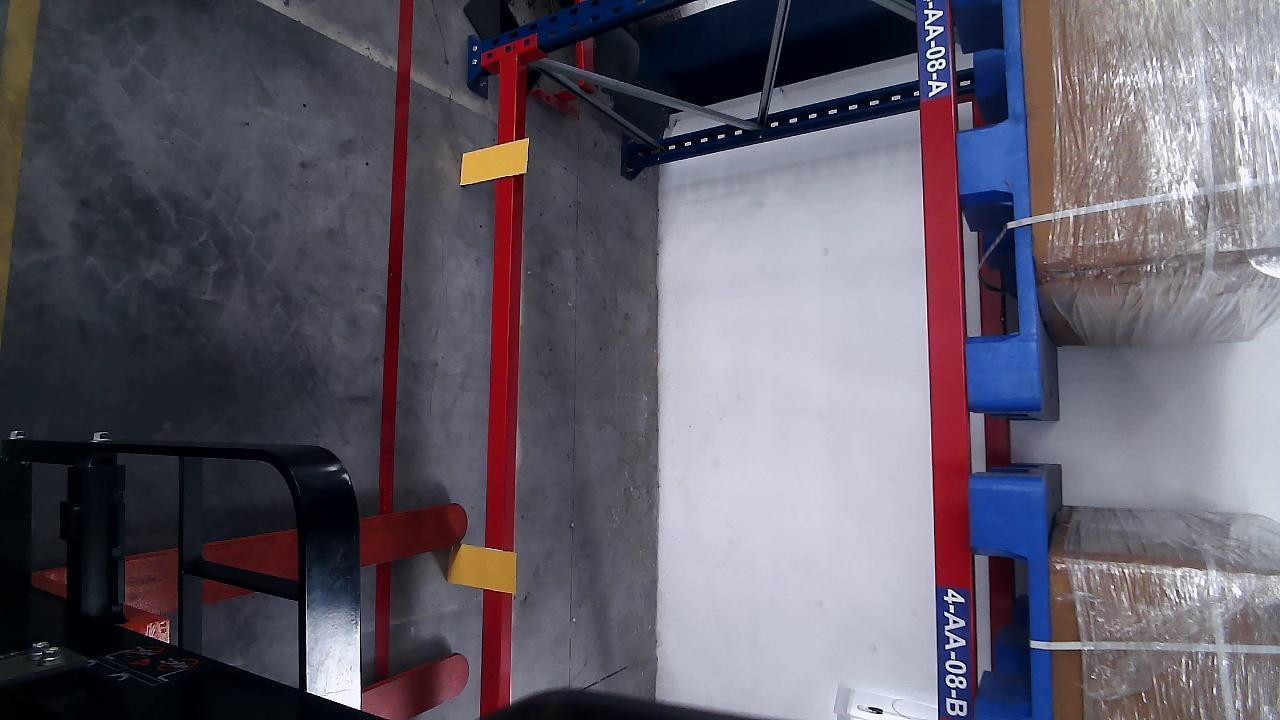h_rack: (920, 1, 972, 720), (480, 58, 515, 720)
orange_strip: (441, 546, 515, 595), (462, 137, 533, 181)
small_pallet: (948, 0, 1042, 402), (966, 484, 1050, 720)
